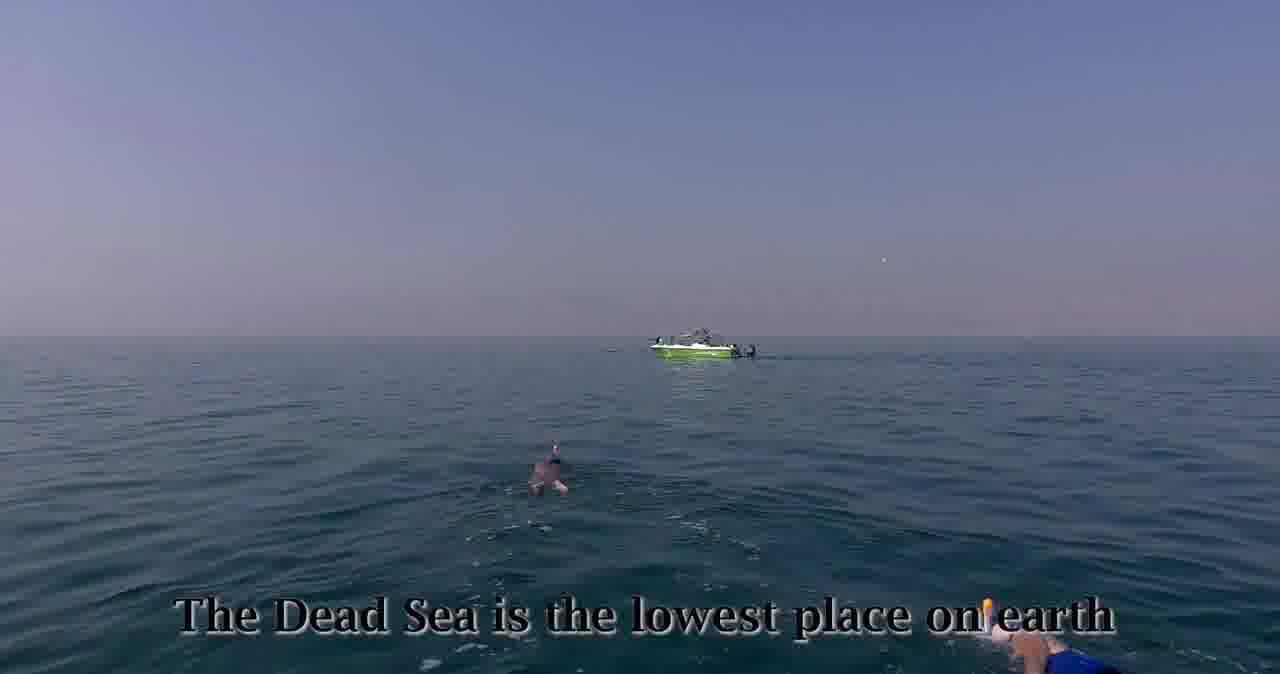human: (971, 580, 1071, 666), (529, 445, 584, 510)
